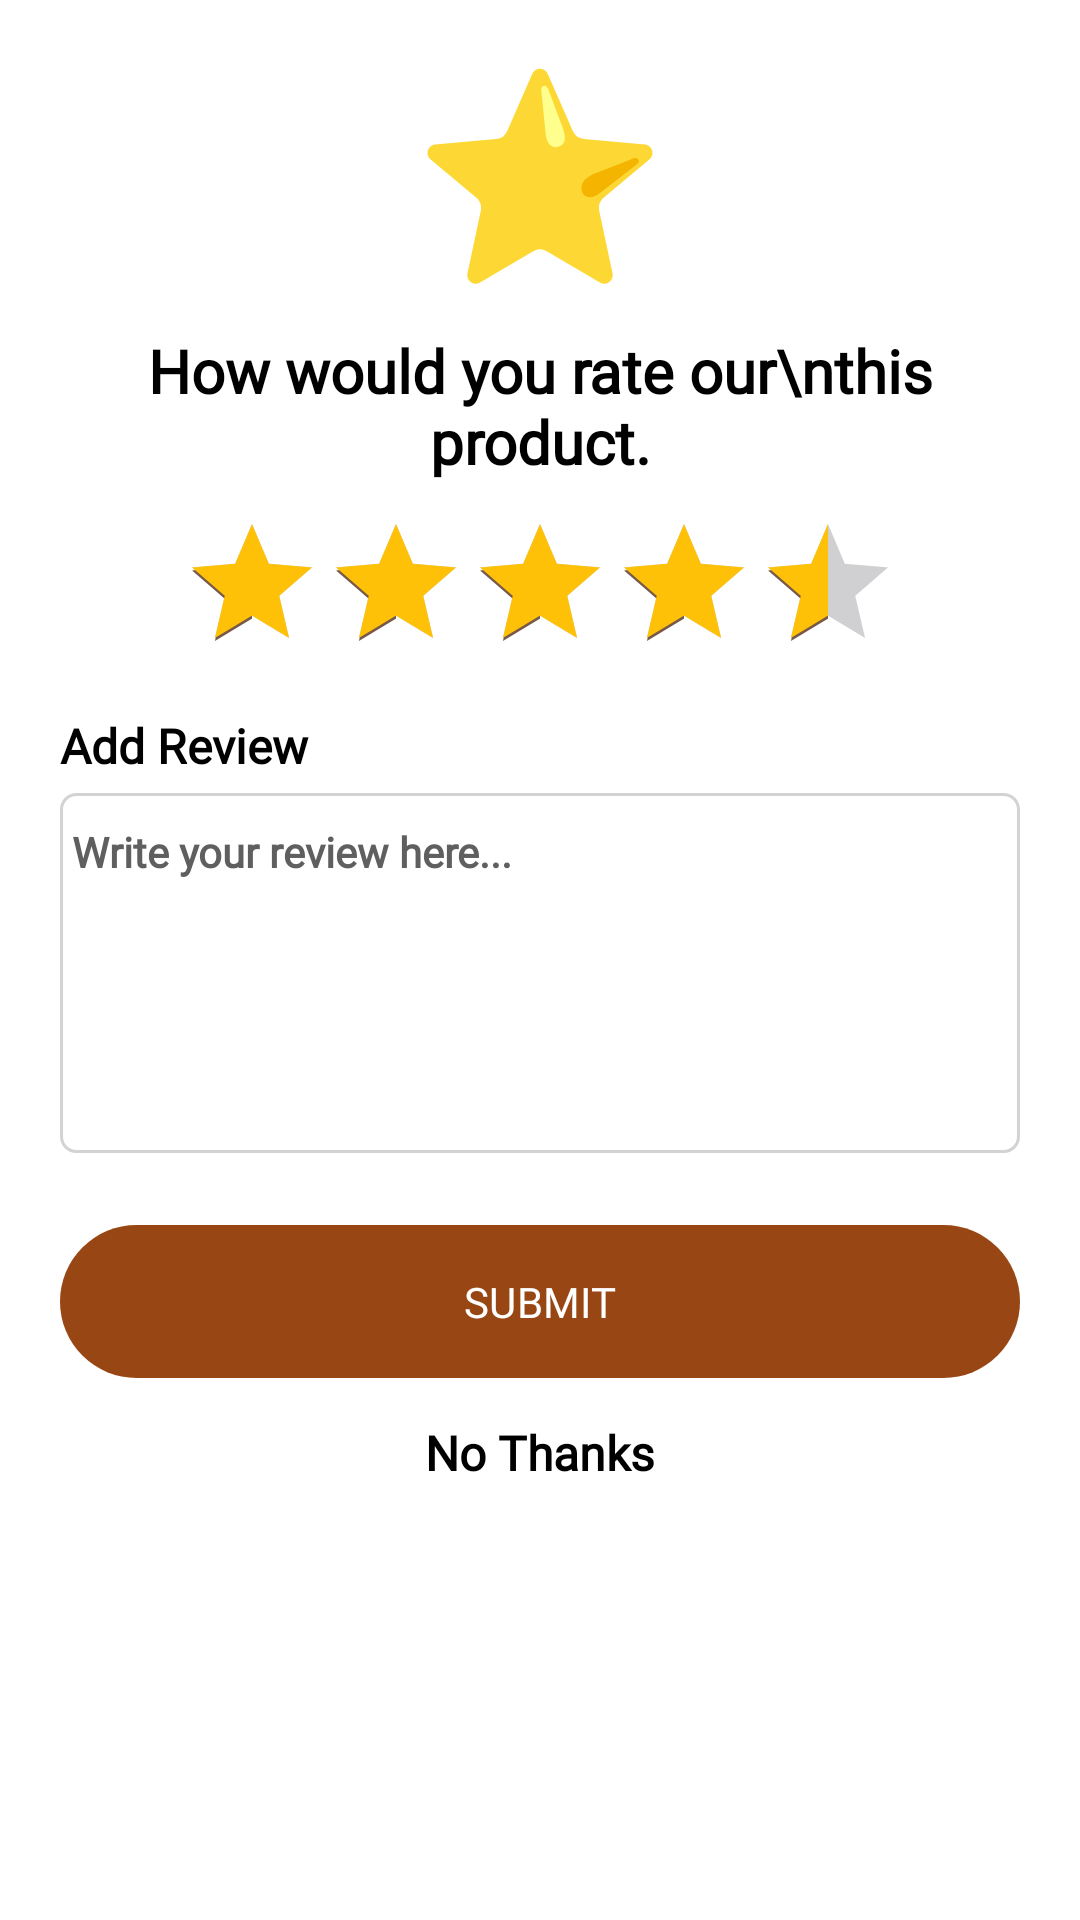

Where icons sit on this 1080w x 1920h app screen, as (x1, y1, x2, y2):
star: (427, 68, 653, 284)
